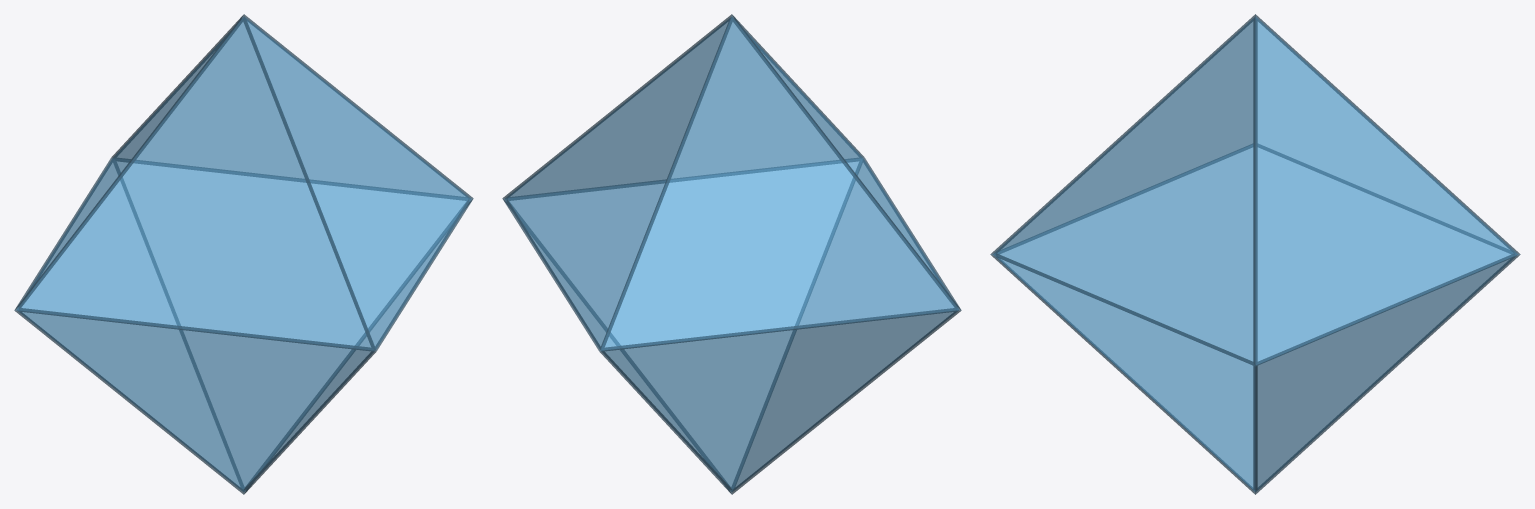
File: octaedro.glb
3 renders of one model, left to right at view 1: azimuth 30°, elevation 25°; view 2: azimuth 150°, elevation 25°; view 3: azimuth 270°, elevation 25°, orthographic.
Parts seen in each view (by area): view 1: Solid.005, Solid.007; view 2: Solid.005, Solid.007; view 3: Solid.005, Solid.007.
Part boxes in pixels (x1,y1,x2,y2): Solid.005: [17, 17, 470, 491]; Solid.007: [14, 14, 473, 494]; Solid.005: [505, 17, 958, 491]; Solid.007: [502, 14, 961, 494]; Solid.005: [993, 17, 1517, 491]; Solid.007: [990, 14, 1520, 494].
Size of the model in its own units: 2.02 by 2.02 by 2.02.
